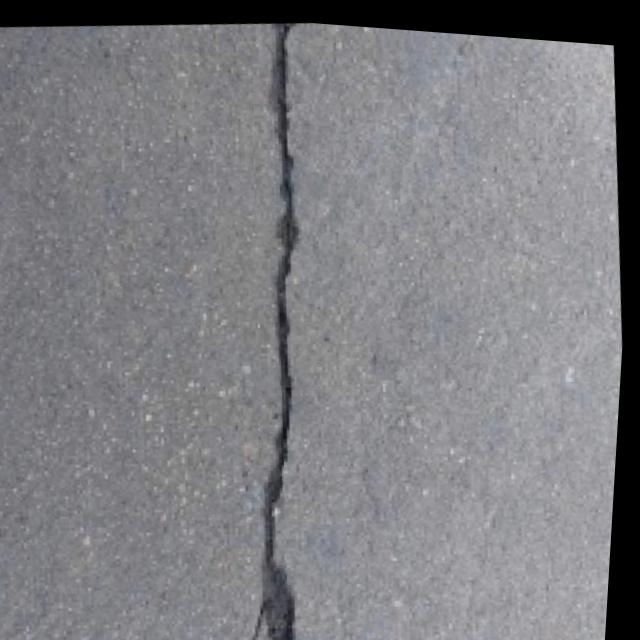Crack: (178, 12, 383, 640)
